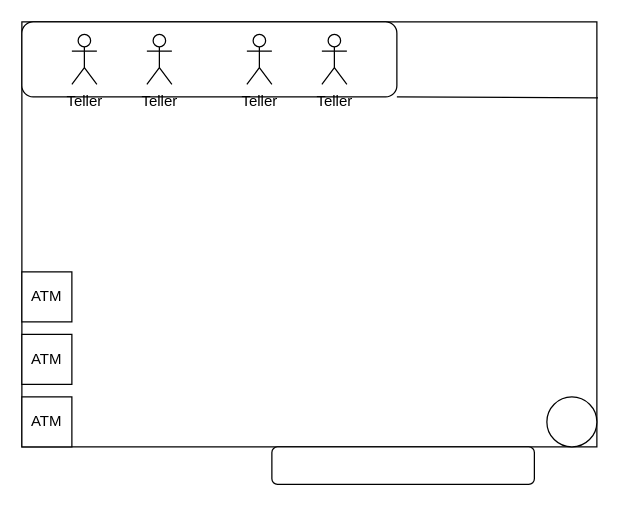
Some shapes in this 621 by 506 pixel diagram are drawn without their labels. Here are the shapes that lost their labels. From the top down, the centre of each, then its label:
At point 571,421: "Guard".
At point 402,465: "Front doors".
